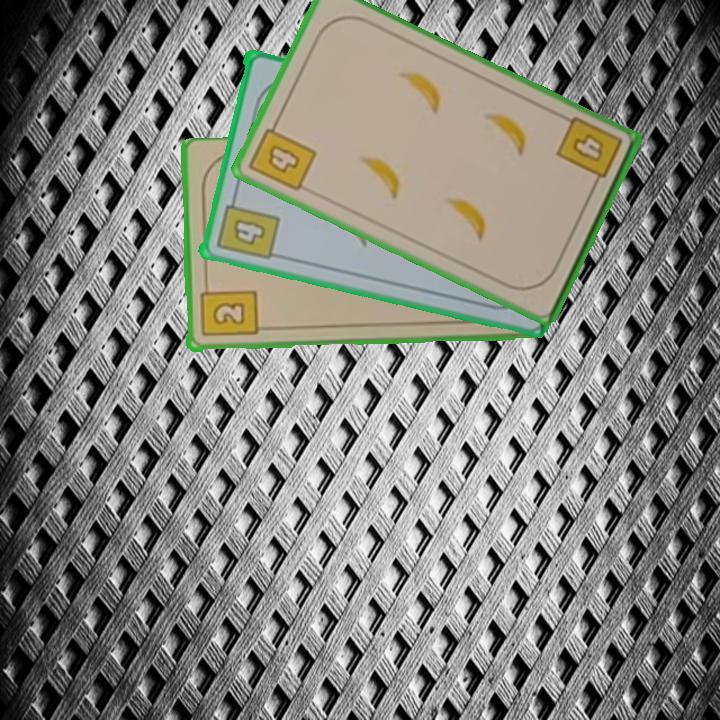2b: (197, 279, 259, 340)
4b: (245, 115, 319, 195), (552, 113, 625, 193), (212, 190, 281, 264)
